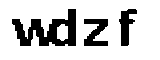d: (50, 8, 79, 48)
f: (116, 1, 139, 49)
w: (8, 15, 54, 49)
z: (80, 16, 111, 47)
